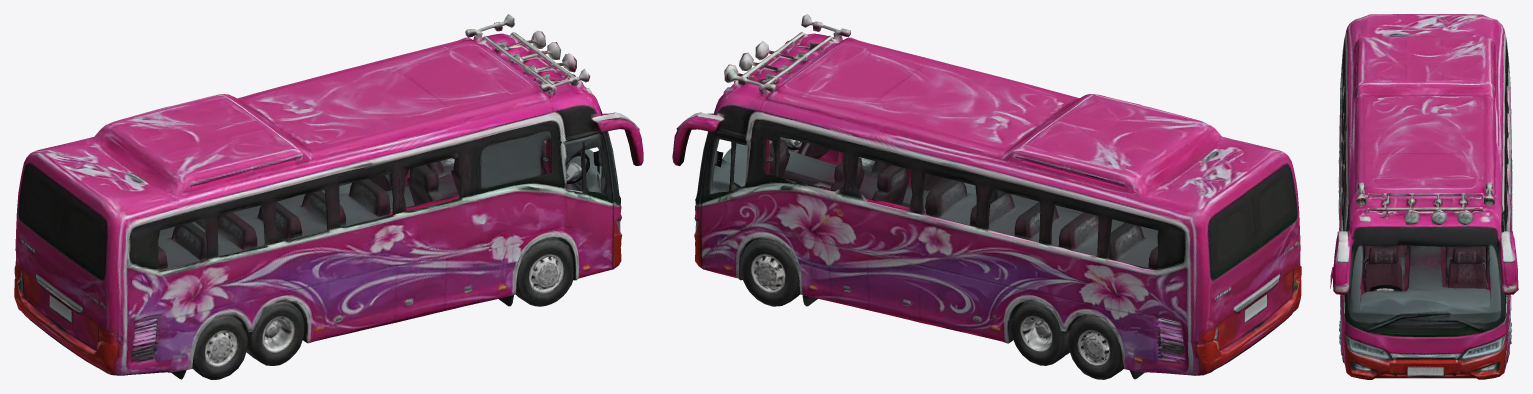
File: pink.glb
3 renders of one model, left to right at view 1: azimuth 30°, elevation 25°; view 2: azimuth 150°, elevation 25°; view 3: azimuth 270°, elevation 25°, orthographic. The views are drawn at different scales.
Visible parts, largest first — view 1: tripo_node_097b1cc8-ca91-4cbd-a672-da3f293bc084; view 2: tripo_node_097b1cc8-ca91-4cbd-a672-da3f293bc084; view 3: tripo_node_097b1cc8-ca91-4cbd-a672-da3f293bc084.
Boxes of the visible parts, x1,y1,x2,y2 form: tripo_node_097b1cc8-ca91-4cbd-a672-da3f293bc084: (14,14,643,379); tripo_node_097b1cc8-ca91-4cbd-a672-da3f293bc084: (672,14,1301,379); tripo_node_097b1cc8-ca91-4cbd-a672-da3f293bc084: (1330,14,1518,379).
Bounding box in the file's own units: 1 × 0.3864 × 0.3548.
1 material, 1 textured.
